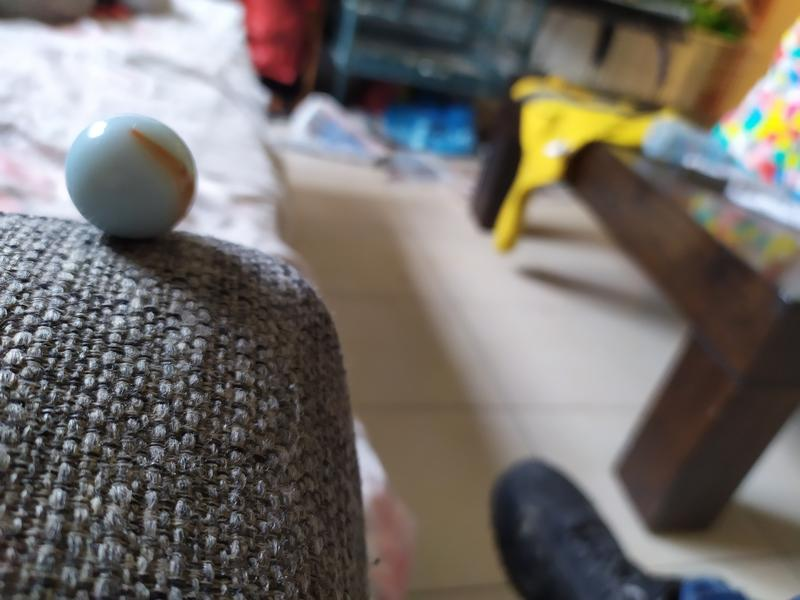Warning: (61, 108, 202, 242)
